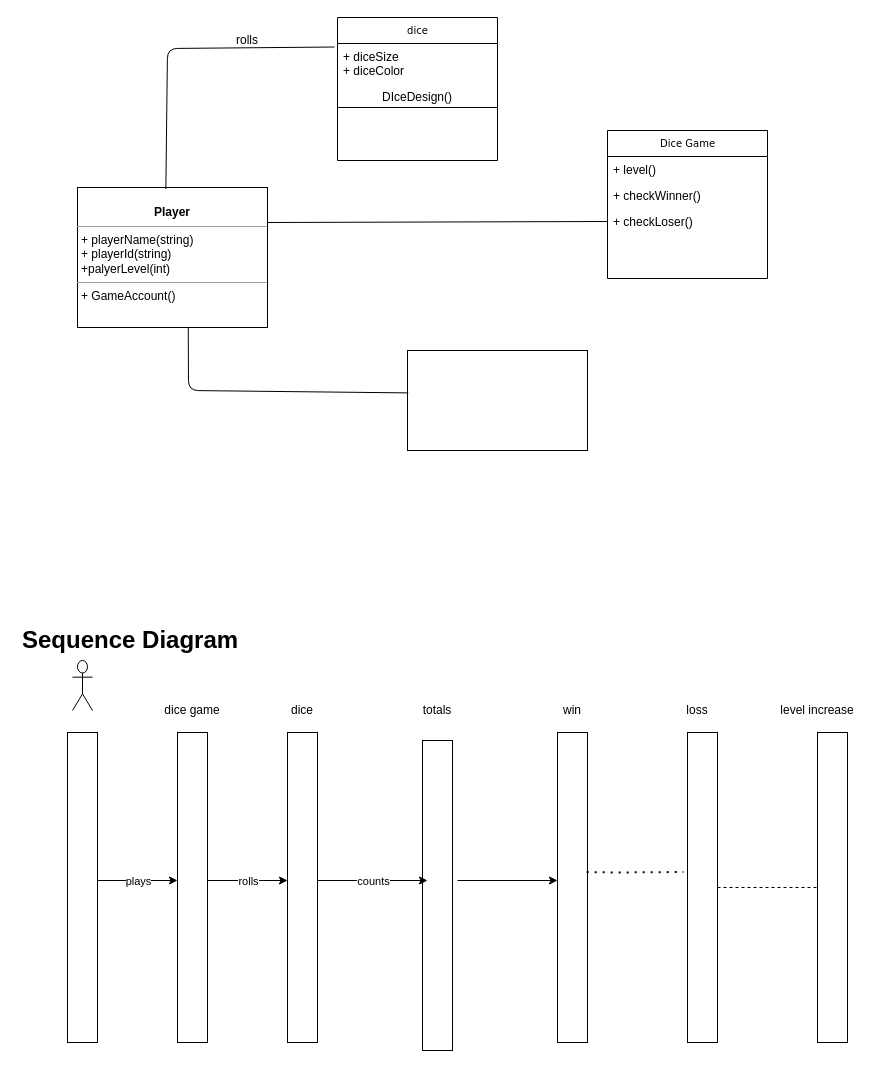
Some shapes in this 884 by 1068 pixel diagram are drawn without their labels. The shapes that lost their labels are listed below. From the top down, each one's centre as x and y in pixels, then its label:
[497,400]: Dice Game Controllers
[82,685]: Actor
